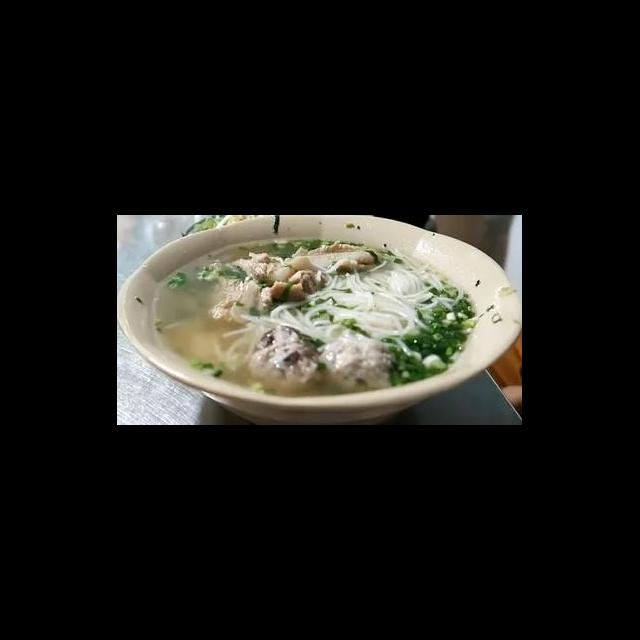bun: (318, 268, 442, 337)
vien moc: (246, 318, 326, 391), (318, 333, 400, 392)
